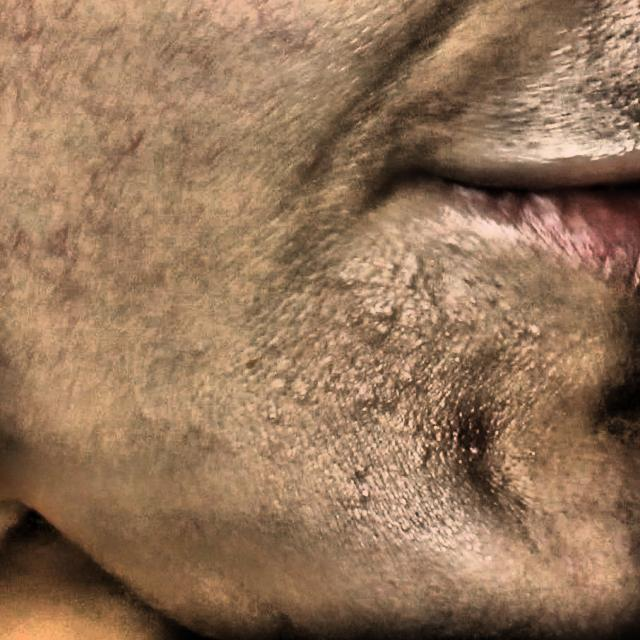whiteheads: (524, 321, 547, 344), (470, 296, 483, 312), (464, 274, 476, 288), (266, 410, 279, 422), (414, 338, 428, 349), (383, 306, 395, 318), (444, 328, 454, 342), (299, 388, 310, 400), (405, 373, 414, 387), (324, 354, 334, 366), (360, 489, 372, 499), (453, 354, 462, 367), (388, 262, 398, 272), (360, 404, 368, 416), (376, 363, 384, 374), (423, 303, 431, 314), (399, 498, 408, 507), (528, 362, 536, 371), (530, 386, 538, 395), (498, 332, 504, 342), (372, 442, 379, 449), (384, 448, 390, 455), (514, 332, 520, 339), (470, 408, 476, 414), (394, 446, 399, 453), (400, 327, 405, 332)
